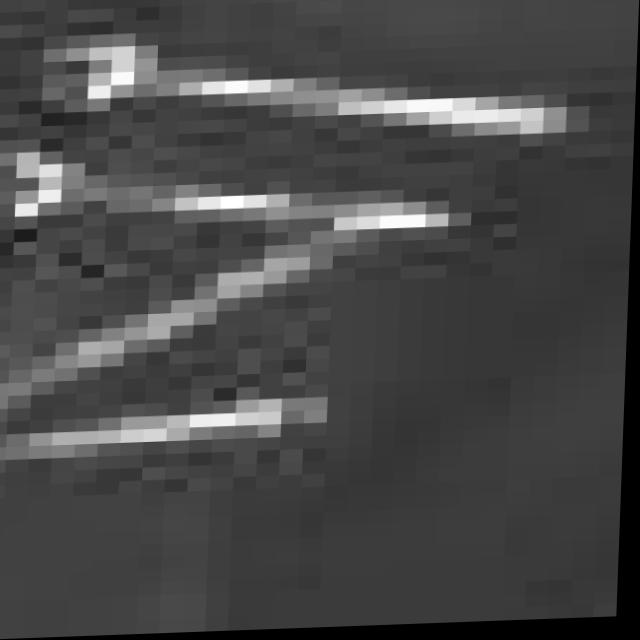fracture: (0, 2, 638, 633)
